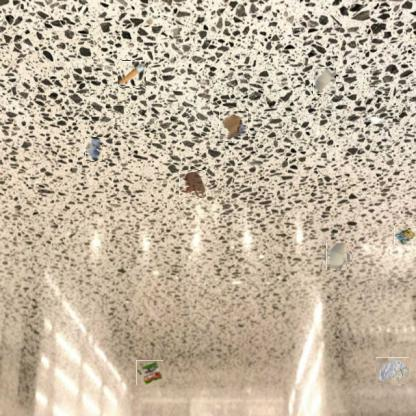dirty: (377, 356, 408, 386), (219, 111, 248, 141), (119, 61, 146, 87), (136, 360, 163, 385), (324, 243, 350, 268), (313, 67, 336, 94), (394, 224, 416, 246)
liquid: (179, 170, 206, 198), (85, 137, 102, 161)
